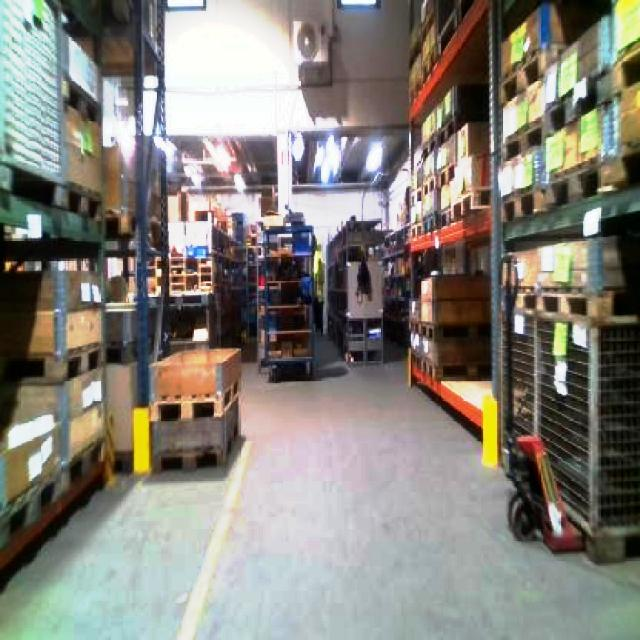ground: (0, 326, 638, 638)
pallet: (403, 0, 638, 563), (403, 0, 494, 443), (505, 288, 638, 560), (146, 346, 242, 471), (408, 271, 491, 388), (257, 223, 314, 378), (262, 277, 311, 358), (166, 254, 212, 294)
